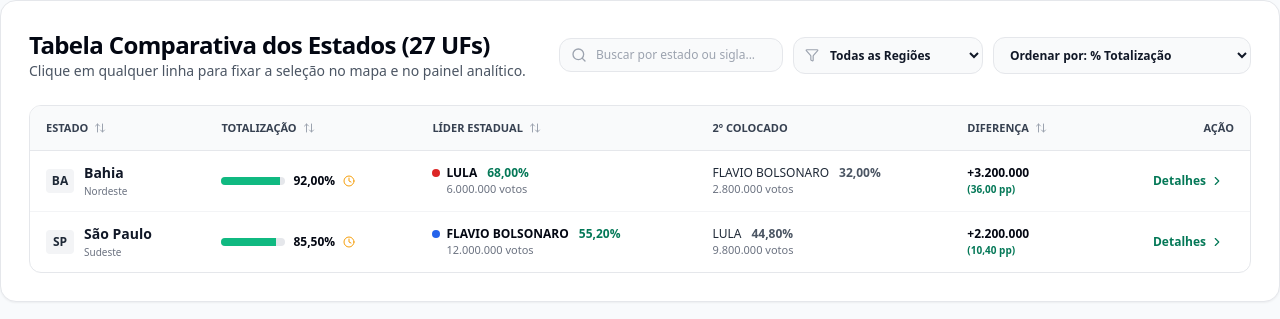
Test: StatesTable Component › deve listar os estados e permitir filtrar por busca de texto
The width and height of the screenshot is (1280, 319).
Expected: the text "São Paulo" is shown, [84,224,152,244]
Expected: the text "Bahia" is shown, [84,163,127,183]
In the field with placeholder "Buscar por estado ou sigla...": [671, 55] box [559,38,783,72], type "Paulo"
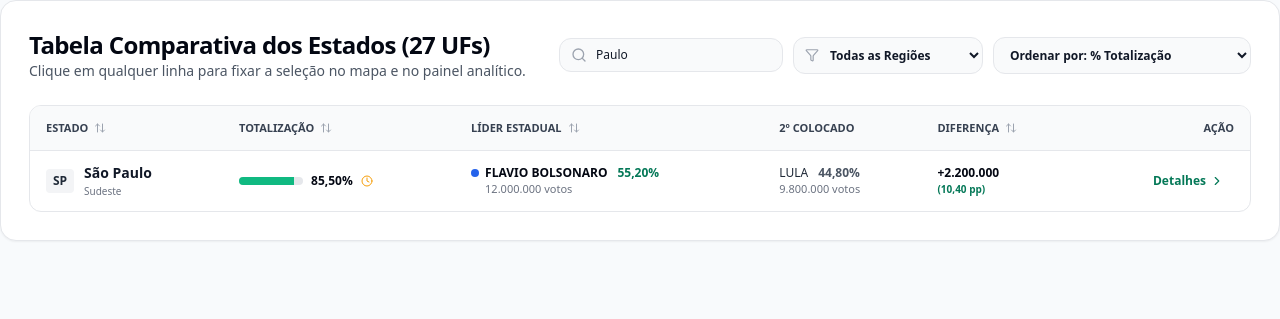
Expected: the text "São Paulo" is shown, [84,163,152,183]
Result: the text "Bahia" is gone
